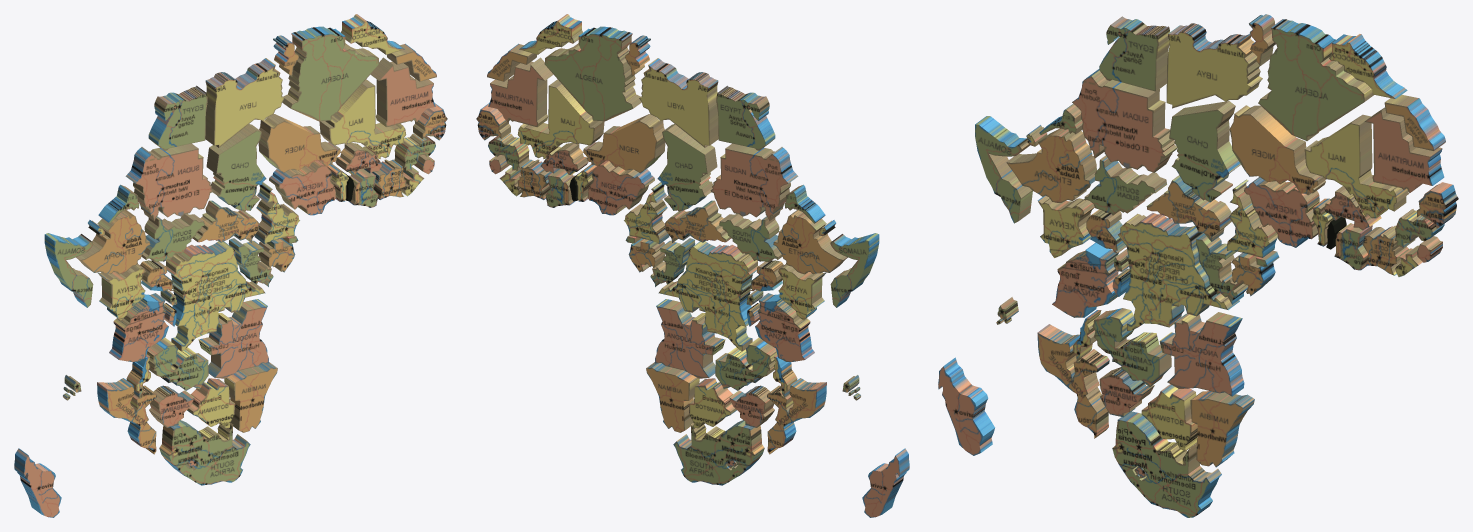
File: Africa.fbx
The picture shows the model from 3 angles, left to right: view 1: azimuth 30°, elevation 25°; view 2: azimuth 150°, elevation 25°; view 3: azimuth 330°, elevation 25°; orthographic projection. The views are drawn at different scales.
Parts seen in each view (by area): view 1: DEMOCRATIC REPUBLIC OF CONGO, ALGERIA, SUDAN, LIBYA, SOUTH AFRICA, ANGOLA, CHAD, MALI, NIGER, MAURITANIA, EGYPT, ETHIOPIA (+26 smaller); view 2: DEMOCRATIC REPUBLIC OF CONGO, ALGERIA, SUDAN, LIBYA, SOUTH AFRICA, ANGOLA, CHAD, MALI, NIGER, MAURITANIA, EGYPT, ETHIOPIA (+26 smaller); view 3: DEMOCRATIC REPUBLIC OF CONGO, ALGERIA, SUDAN, SOUTH AFRICA, LIBYA, ANGOLA, CHAD, MALI, NIGER, ETHIOPIA, MOZAMBIQUE, EGYPT (+27 smaller).
Boxes of the visible parts, x1,y1,x2,y2 form: DEMOCRATIC REPUBLIC OF CONGO: (165, 241, 265, 351); ALGERIA: (282, 26, 379, 121); SUDAN: (125, 143, 213, 221); LIBYA: (205, 58, 284, 147); SOUTH AFRICA: (159, 420, 250, 485); ANGOLA: (198, 299, 268, 378); CHAD: (206, 124, 266, 211); MALI: (319, 79, 406, 158); NIGER: (258, 114, 340, 173); MAURITANIA: (370, 57, 435, 127); EGYPT: (148, 85, 207, 150); ETHIOPIA: (76, 210, 150, 274); DEMOCRATIC REPUBLIC OF CONGO: (658, 241, 758, 351); ALGERIA: (544, 26, 641, 121); SUDAN: (710, 143, 798, 221); LIBYA: (639, 58, 718, 147); SOUTH AFRICA: (673, 420, 764, 485); ANGOLA: (655, 299, 725, 378); CHAD: (657, 124, 717, 211); MALI: (517, 79, 604, 158); NIGER: (583, 114, 665, 173); MAURITANIA: (488, 57, 553, 127); EGYPT: (716, 85, 775, 150); ETHIOPIA: (773, 210, 847, 274); DEMOCRATIC REPUBLIC OF CONGO: (1118, 213, 1239, 330); ALGERIA: (1258, 19, 1373, 140); SUDAN: (1072, 69, 1177, 172); SOUTH AFRICA: (1112, 411, 1221, 517); LIBYA: (1166, 23, 1262, 108); ANGOLA: (1159, 312, 1244, 396); CHAD: (1169, 101, 1240, 202); MALI: (1304, 114, 1408, 218); NIGER: (1229, 105, 1326, 195); ETHIOPIA: (1006, 128, 1096, 202); MOZAMBIQUE: (1037, 324, 1109, 438); EGYPT: (1099, 16, 1169, 91).
Bounding box in the file's own units: 436 × 422 × 17.6.
